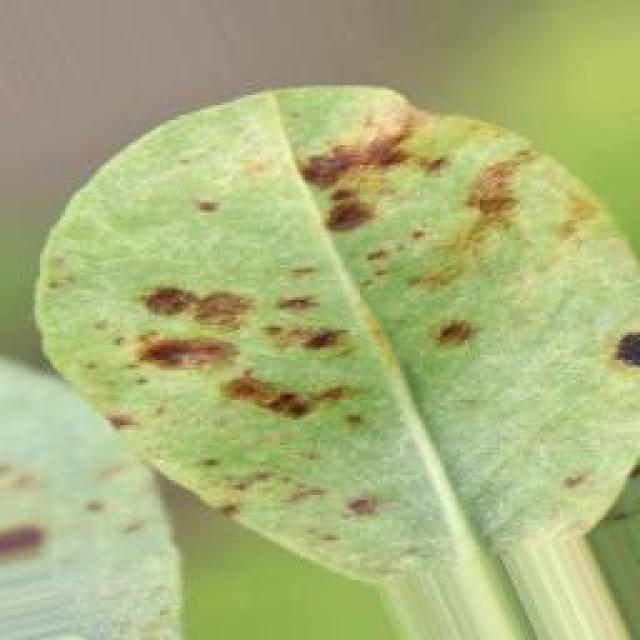Whitefly: (39, 94, 603, 576)
